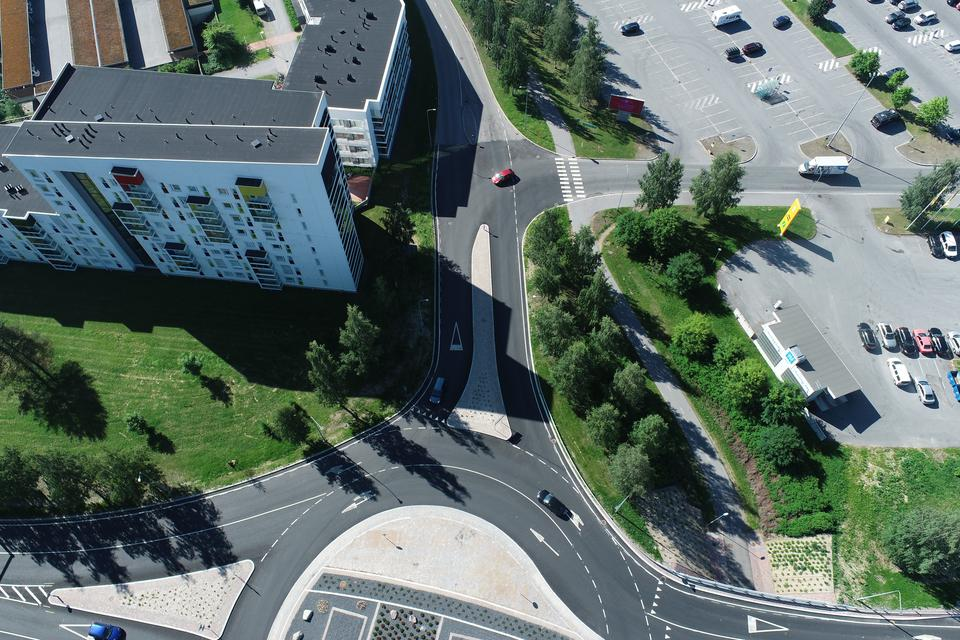intersection: (422, 136, 614, 235)
roundabout: (217, 424, 675, 640)
